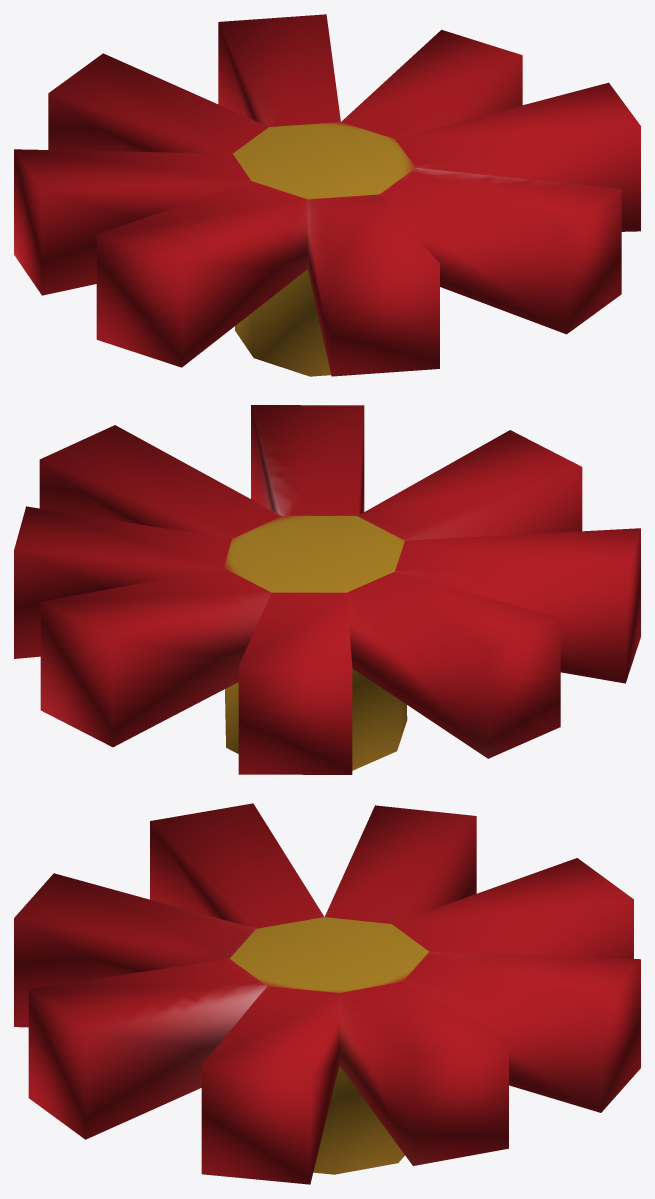
Rendered from propelle.fbx.
3 renders of one model, top to bottom at view 1: azimuth 30°, elevation 25°; view 2: azimuth 150°, elevation 25°; view 3: azimuth 270°, elevation 25°, orthographic. The views are drawn at different scales.
Visible parts, largest first — view 1: propeller; view 2: propeller; view 3: propeller.
Part boxes in pixels (x1=…): propeller: x1=14, y1=14, x2=640, y2=376; propeller: x1=14, y1=405, x2=640, y2=774; propeller: x1=14, y1=803, x2=640, y2=1184.
Size of the model in its own units: 186 by 63.66 by 181.
